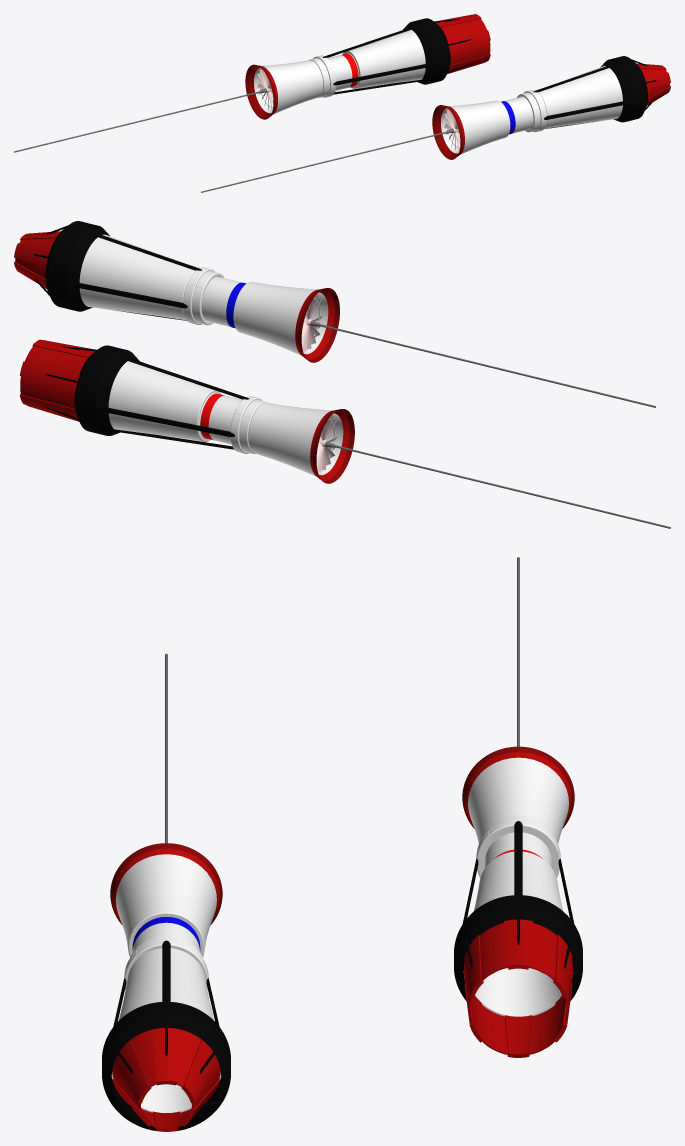
File: model_Vector.glb
3 renders of one model, top to bottom at view 1: azimuth 30°, elevation 25°; view 2: azimuth 150°, elevation 25°; view 3: azimuth 270°, elevation 25°, orthographic. The views are drawn at different scales.
Parts seen in each view (by area): view 1: 外壳 (×2), 操纵杆 (×5), 吸口 (×6), 出气口 (×4), 电子 (×2), 开关 (×2); view 2: 外壳 (×2), 操纵杆 (×5), 吸口 (×6), 出气口 (×4), 电子 (×2), 开关 (×2); view 3: 外壳 (×2), 吸口 (×10), 操纵杆 (×2), 出气口 (×4), 开关.
Part boxes in pixels (left/top/right/bottom): 外壳 (×2): left=254, top=30, right=622, bottom=154; 操纵杆 (×5): left=322, top=18, right=647, bottom=122; 吸口 (×6): left=436, top=14, right=670, bottom=89; 出气口 (×4): left=245, top=64, right=464, bottom=159; 电子 (×2): left=14, top=88, right=454, bottom=192; 开关 (×2): left=320, top=68, right=547, bottom=130; 外壳 (×2): left=79, top=234, right=343, bottom=476; 操纵杆 (×5): left=45, top=221, right=249, bottom=436; 吸口 (×6): left=14, top=243, right=94, bottom=421; 出气口 (×4): left=295, top=288, right=354, bottom=483; 电子 (×2): left=310, top=320, right=670, bottom=528; 开关 (×2): left=183, top=284, right=251, bottom=451; 外壳 (×2): left=111, top=757, right=573, bottom=1112; 吸口 (×10): left=115, top=919, right=556, bottom=1103; 操纵杆 (×2): left=102, top=895, right=582, bottom=1131; 出气口 (×4): left=110, top=746, right=574, bottom=925; 开关: left=489, top=815, right=547, bottom=840.
Size of the model in its own units: 0.9234 by 0.092 by 0.3426.
